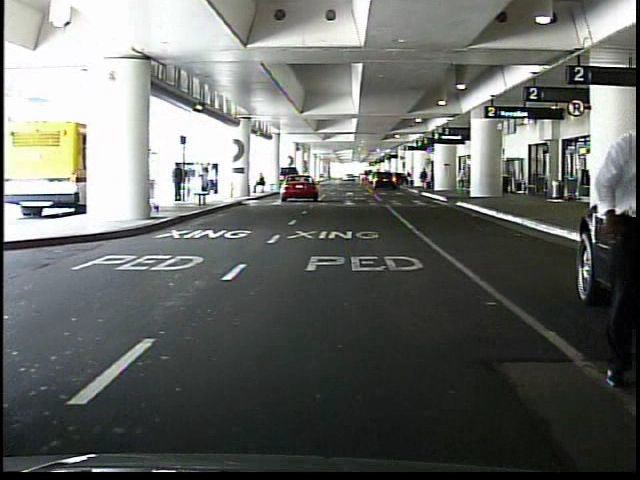person: (580, 88, 640, 385), (171, 161, 186, 204), (457, 166, 469, 196), (253, 172, 268, 196), (419, 167, 429, 192)
